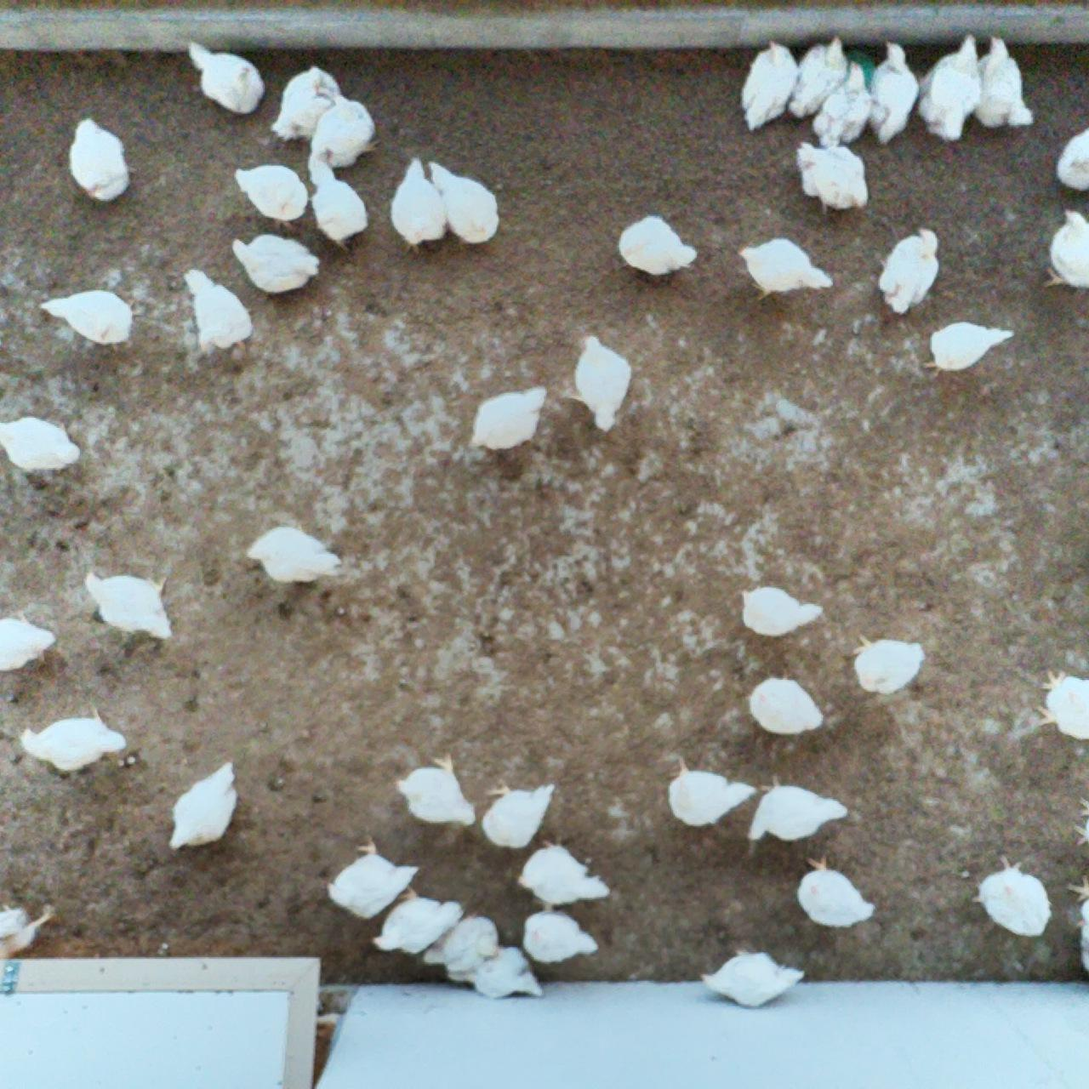chicken: (321, 833, 421, 920), (743, 772, 851, 845), (917, 30, 985, 144), (165, 758, 243, 856), (421, 160, 504, 251), (701, 946, 805, 1018), (302, 147, 373, 252), (735, 236, 835, 310), (80, 565, 176, 642), (509, 832, 611, 904), (19, 714, 129, 778), (390, 751, 478, 831), (179, 266, 253, 361), (794, 851, 879, 933), (732, 35, 802, 134), (304, 81, 381, 170), (370, 884, 465, 956), (570, 330, 637, 432), (666, 755, 755, 831), (972, 854, 1052, 938), (386, 152, 450, 257), (225, 228, 322, 297), (184, 34, 268, 113), (808, 57, 875, 156), (268, 63, 346, 147), (863, 38, 922, 149), (874, 223, 944, 316), (793, 135, 873, 216), (474, 779, 558, 854), (244, 525, 345, 587), (972, 31, 1035, 130), (612, 210, 699, 281), (64, 116, 133, 205), (38, 287, 135, 349), (470, 382, 549, 456), (924, 313, 1018, 375), (784, 32, 851, 117), (744, 674, 829, 740), (453, 942, 547, 1001), (0, 407, 79, 476), (232, 158, 312, 224), (738, 581, 826, 639), (851, 630, 928, 695), (519, 906, 600, 966), (1037, 201, 1089, 294), (0, 601, 62, 676), (1034, 663, 1089, 744), (423, 914, 500, 970), (0, 896, 52, 966), (1066, 875, 1089, 979), (1056, 127, 1089, 197), (1069, 788, 1089, 861)
